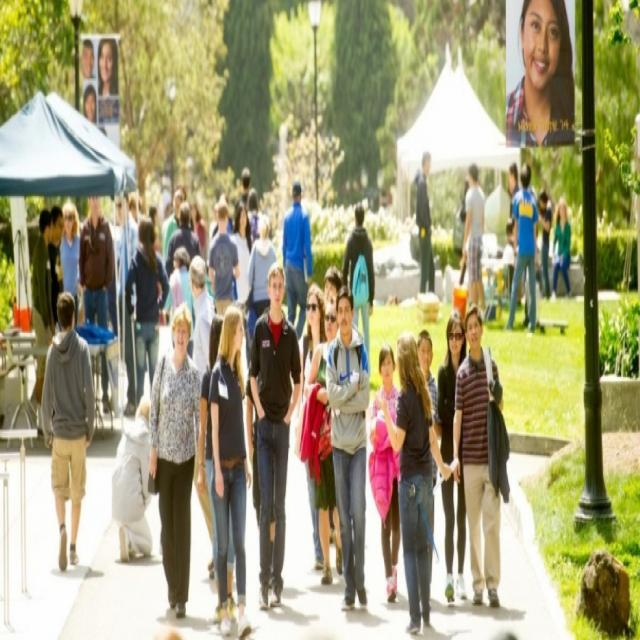body: (373, 328, 453, 634), (247, 258, 303, 612), (146, 302, 202, 622), (450, 298, 505, 612), (41, 289, 98, 576), (205, 302, 252, 638), (324, 284, 372, 612), (196, 312, 241, 625), (128, 164, 268, 251), (304, 296, 344, 588), (505, 0, 578, 152), (187, 253, 216, 577), (435, 311, 467, 604), (296, 283, 328, 572), (124, 218, 172, 410), (368, 341, 401, 606), (110, 392, 154, 565), (79, 193, 113, 415), (414, 325, 440, 614), (112, 185, 140, 415), (340, 203, 376, 378), (504, 160, 539, 337), (30, 208, 56, 438), (30, 207, 56, 432), (282, 178, 314, 344), (461, 162, 486, 328), (207, 203, 240, 319), (413, 150, 437, 298), (81, 37, 118, 127), (164, 200, 203, 284), (57, 198, 81, 332), (248, 215, 278, 319), (228, 204, 254, 303), (550, 193, 573, 300), (537, 188, 554, 300), (505, 160, 524, 254), (459, 173, 472, 303), (497, 218, 518, 267), (322, 264, 341, 299)
